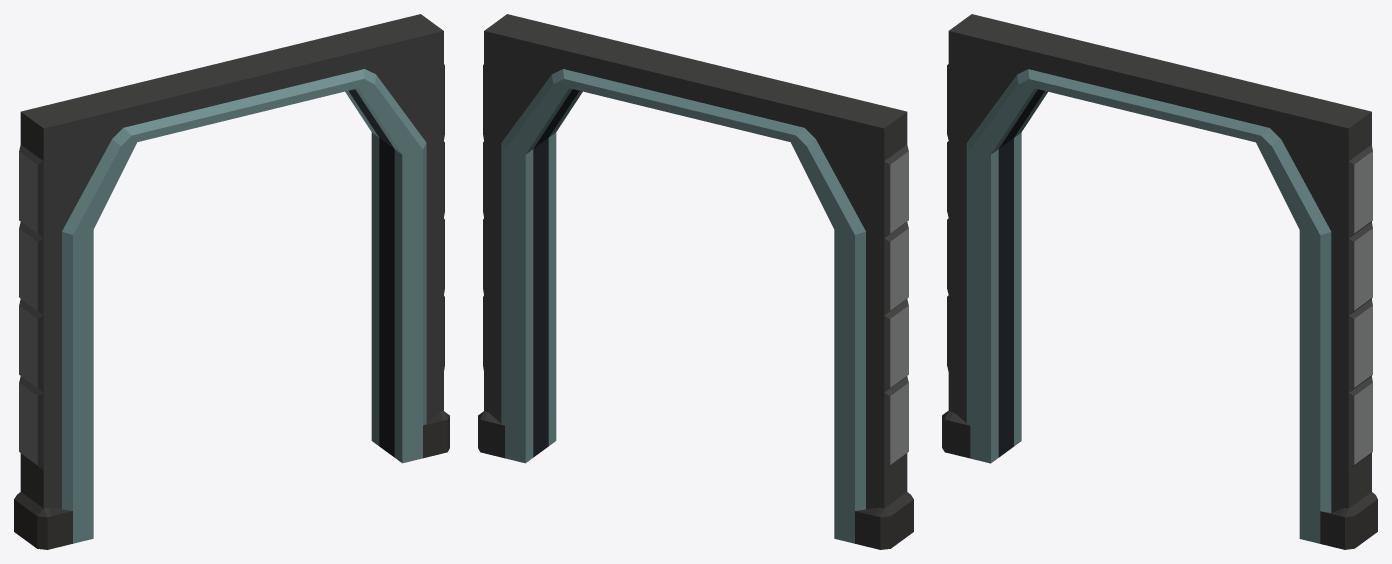
The model's file is db_doorway.glb.
3 renders of one model, left to right at view 1: azimuth 30°, elevation 25°; view 2: azimuth 150°, elevation 25°; view 3: azimuth 330°, elevation 25°, orthographic.
Parts seen in each view (by area): view 1: Doorway; view 2: Doorway; view 3: Doorway.
Boxes of the visible parts, x1,y1,x2,y2 form: Doorway: (14,14,449,549); Doorway: (478,14,913,549); Doorway: (942,14,1377,549).
Size of the model in its own units: 5.16 by 5 by 0.6638.
Materials: 1 (1 with a texture image).
